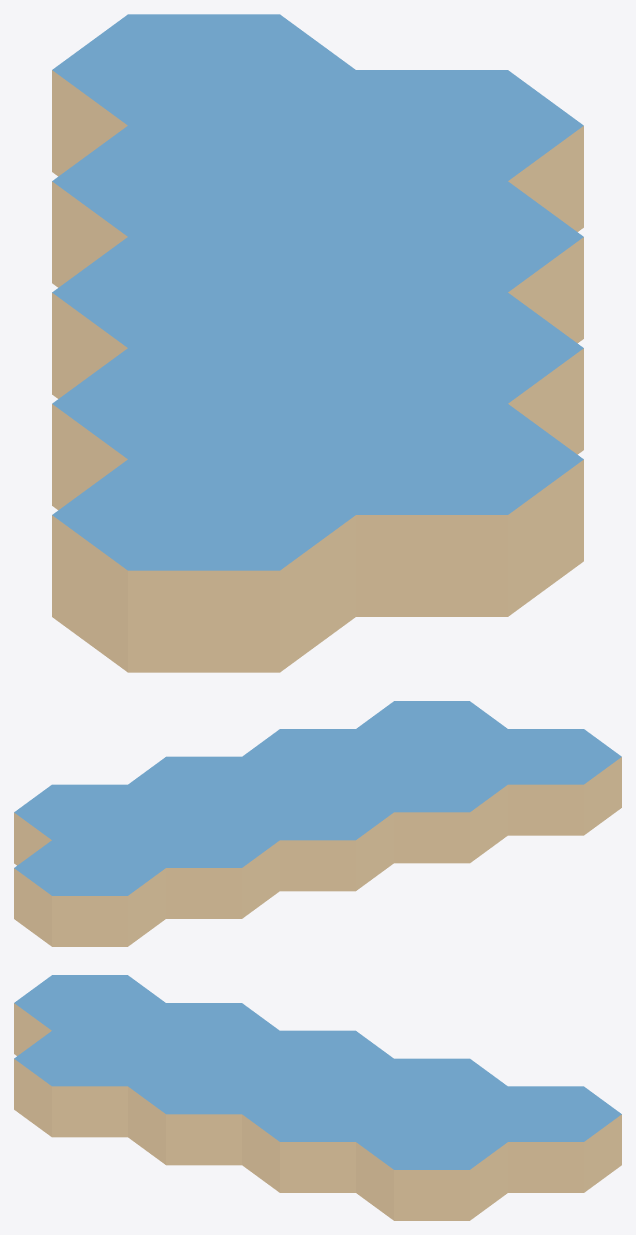
File: granja-pradera-pbr-v2.glb
3 renders of one model, top to bottom at view 1: azimuth 30°, elevation 25°; view 2: azimuth 150°, elevation 25°; view 3: azimuth 270°, elevation 25°, orthographic. The views are drawn at different scales.
Parts seen in each view (by area): view 1: GRANJA_Techo, GRANJA_Paredes; view 2: GRANJA_Techo, GRANJA_Paredes; view 3: GRANJA_Techo, GRANJA_Paredes.
Boxes of the visible parts, <box> form: GRANJA_Techo: <box>52,14,583,570</box>; GRANJA_Paredes: <box>52,70,583,672</box>; GRANJA_Techo: <box>14,701,621,895</box>; GRANJA_Paredes: <box>14,757,621,946</box>; GRANJA_Techo: <box>14,975,621,1169</box>; GRANJA_Paredes: <box>14,1003,621,1220</box>.
Bounding box in the file's own units: 303 × 38 × 400.
